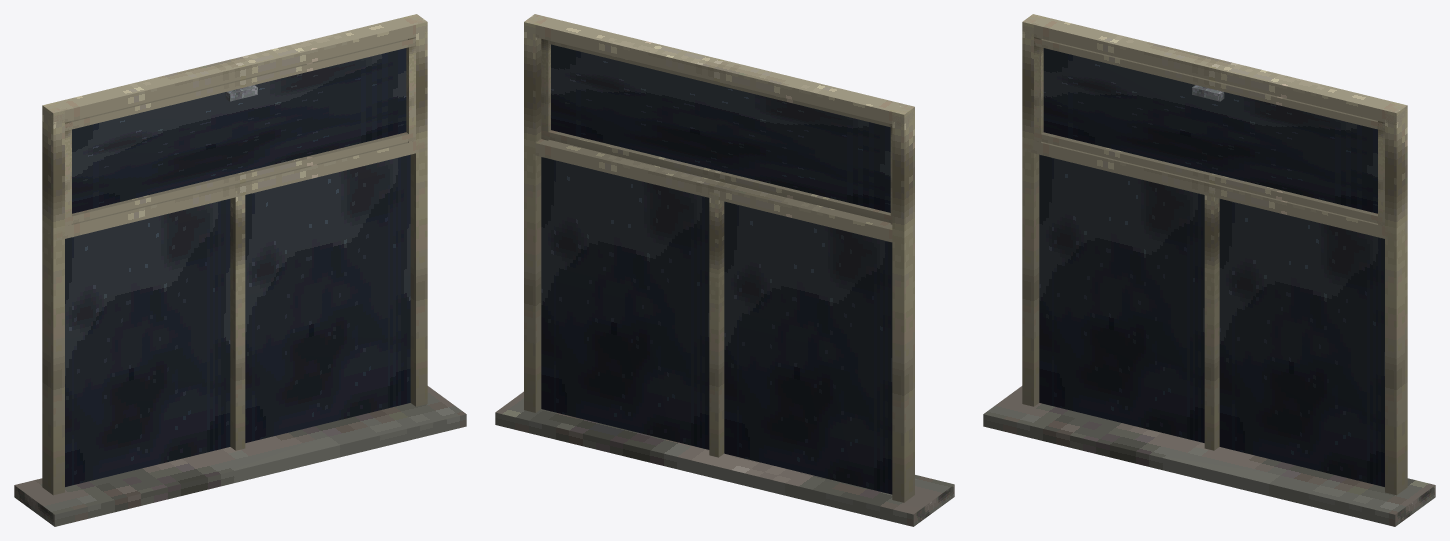
File: window_class.glb
3 renders of one model, left to right at view 1: azimuth 30°, elevation 25°; view 2: azimuth 150°, elevation 25°; view 3: azimuth 330°, elevation 25°, orthographic.
Visible parts, largest first — view 1: window_class, window_class_hopper; view 2: window_class, window_class_hopper; view 3: window_class, window_class_hopper.
Part boxes in pixels (<box>): window_class: <box>14,14,466,526</box>; window_class_hopper: <box>65,37,415,226</box>; window_class: <box>495,14,954,526</box>; window_class_hopper: <box>541,39,892,224</box>; window_class: <box>983,14,1435,526</box>; window_class_hopper: <box>1034,37,1384,226</box>.
Size of the model in its own units: 1.76 by 1.61 by 0.3.
